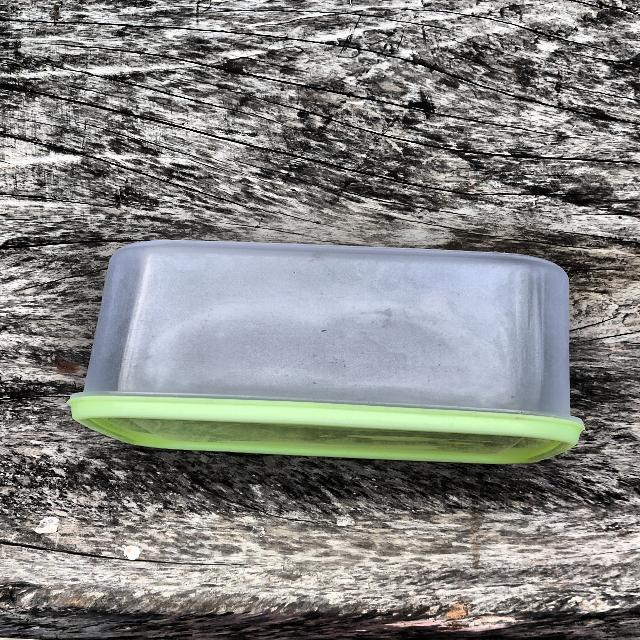plastic container: (57, 212, 612, 490)
